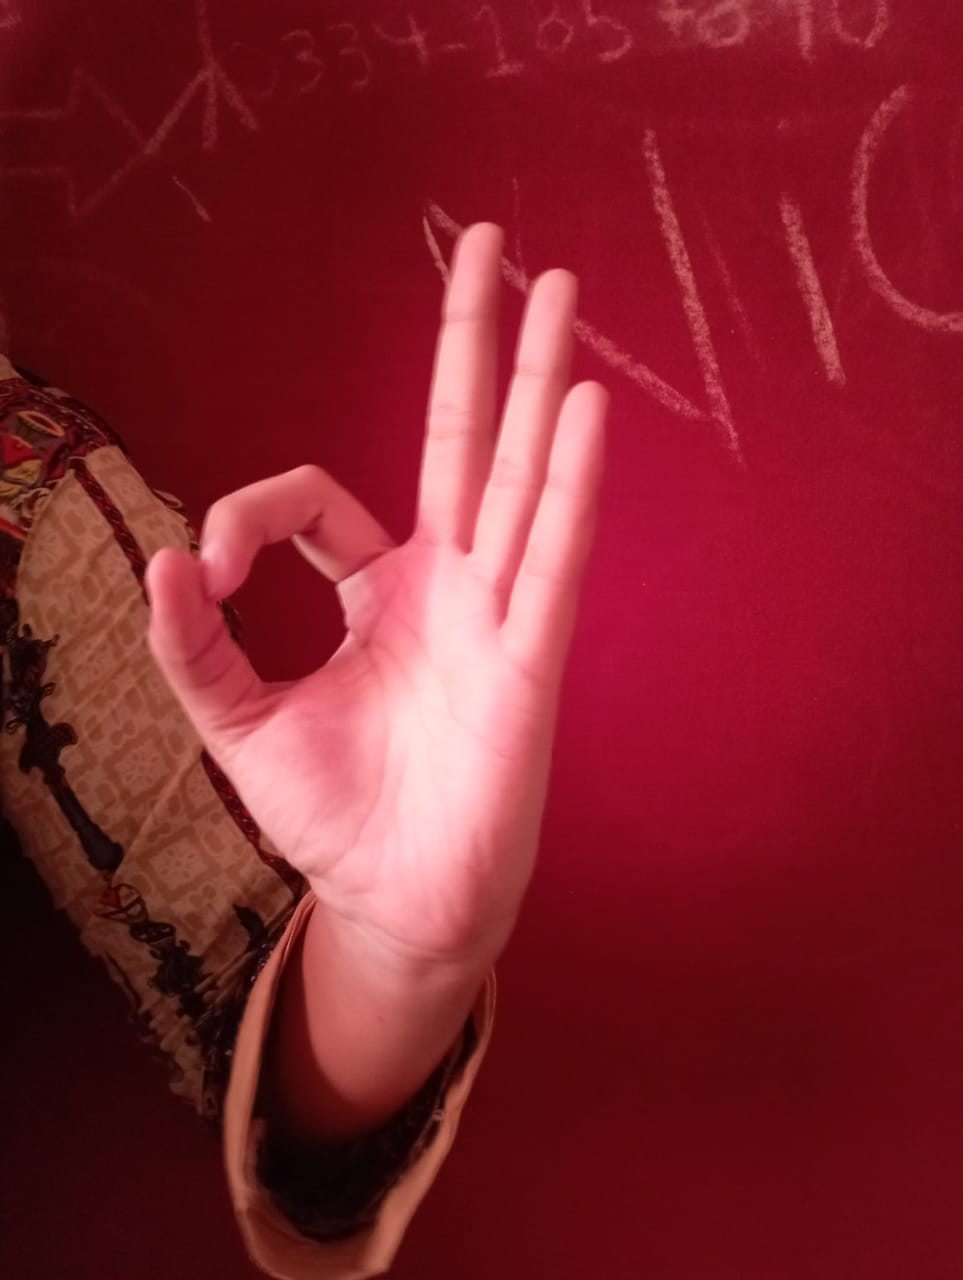Awesome: (154, 200, 617, 963)
